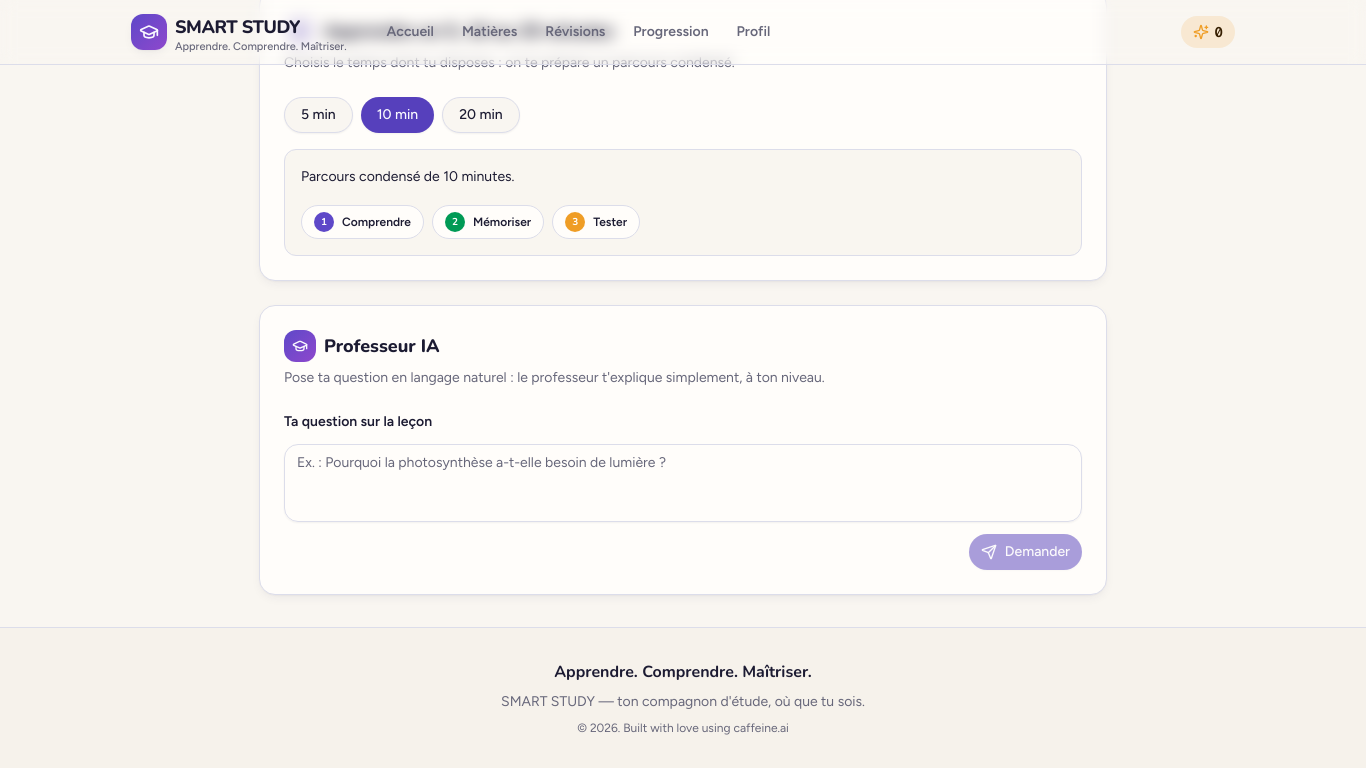
Test: LessonPage › asks the AI teacher and renders the simple explanation
(page scrolled)
Type "Pourquoi le dénominateur ne peut-il pas être zéro ?" into the text box with test id "lesson.ai_teacher.input" at [683, 483], box left=284, top=444, right=1082, bottom=522
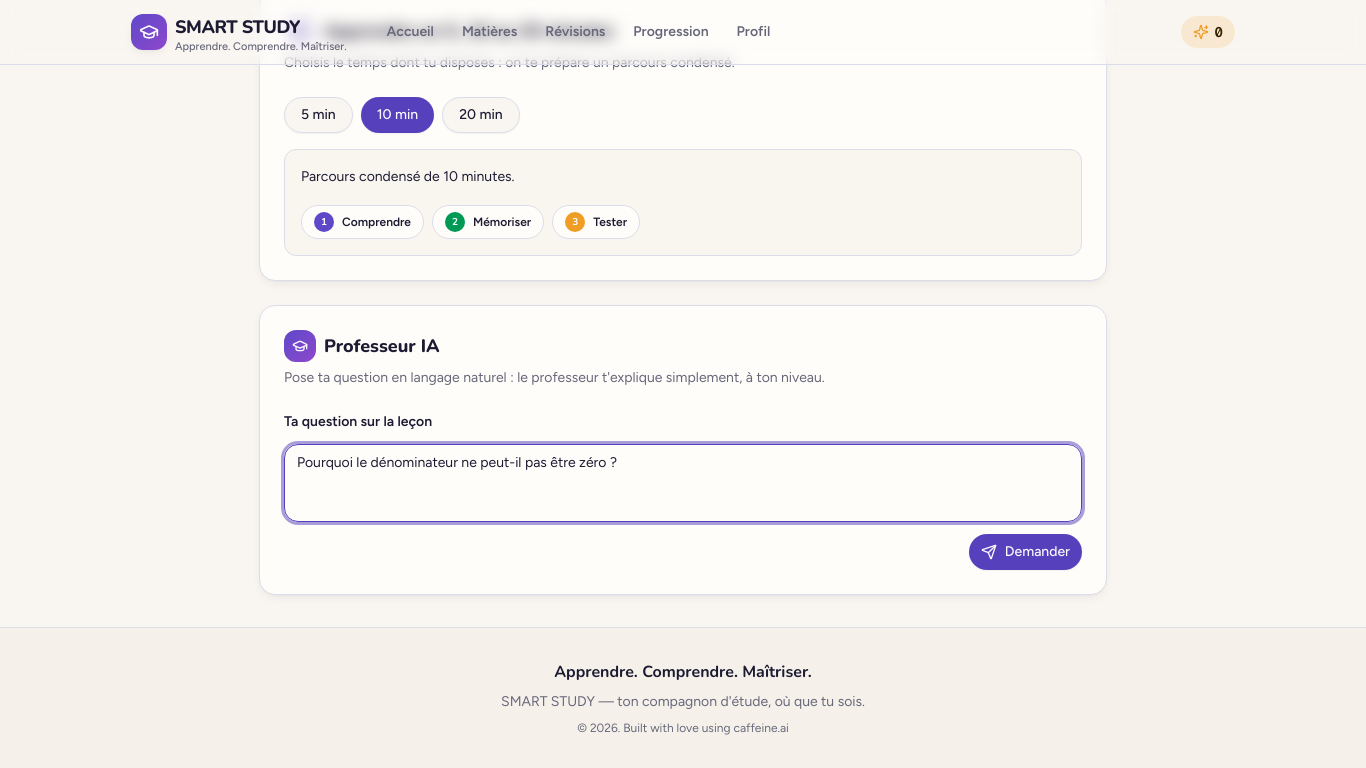
Click the button with test id "lesson.ai_teacher.submit_button" at [1025, 552], box left=969, top=534, right=1082, bottom=570
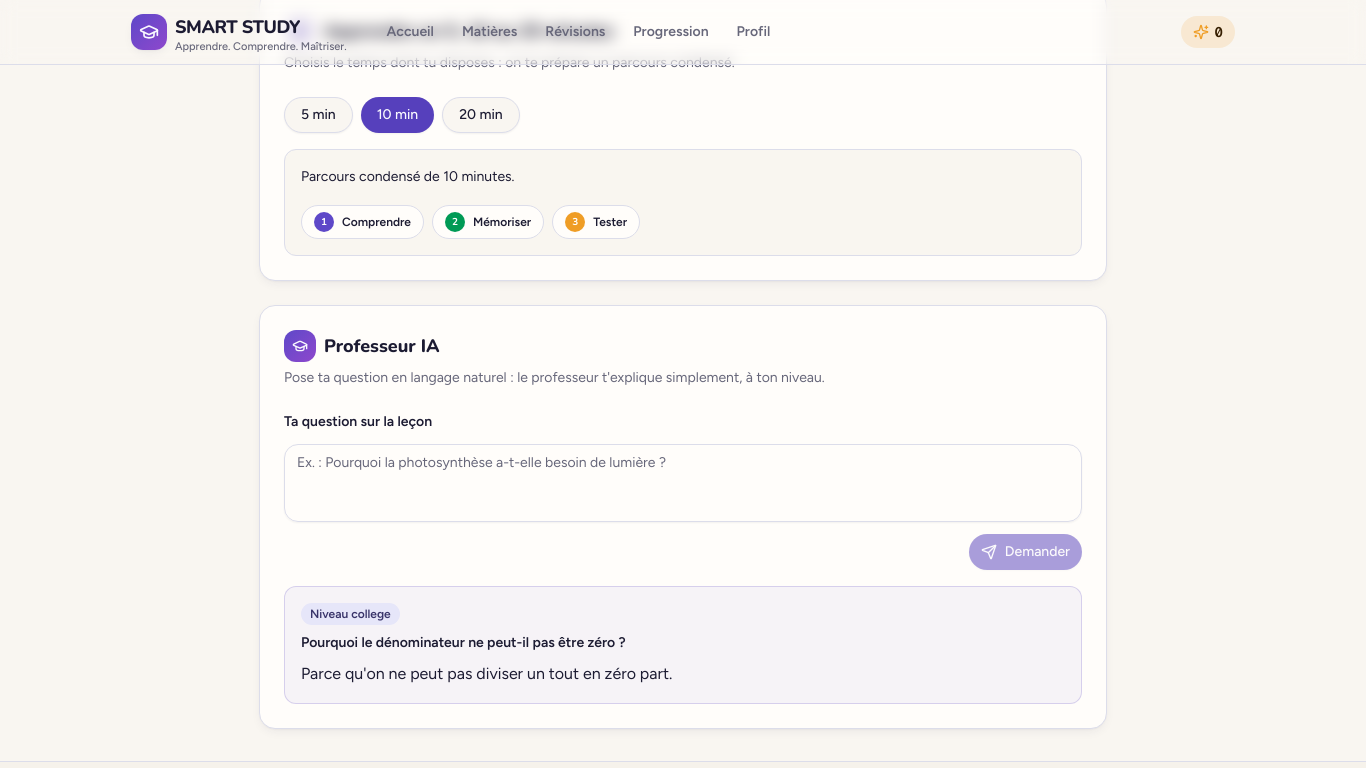
Check: the text "Parce qu'on ne peut pas diviser un tout en zéro part." is shown, box left=301, top=664, right=672, bottom=683
Check: the text "Niveau college" is shown, box left=301, top=603, right=400, bottom=625
